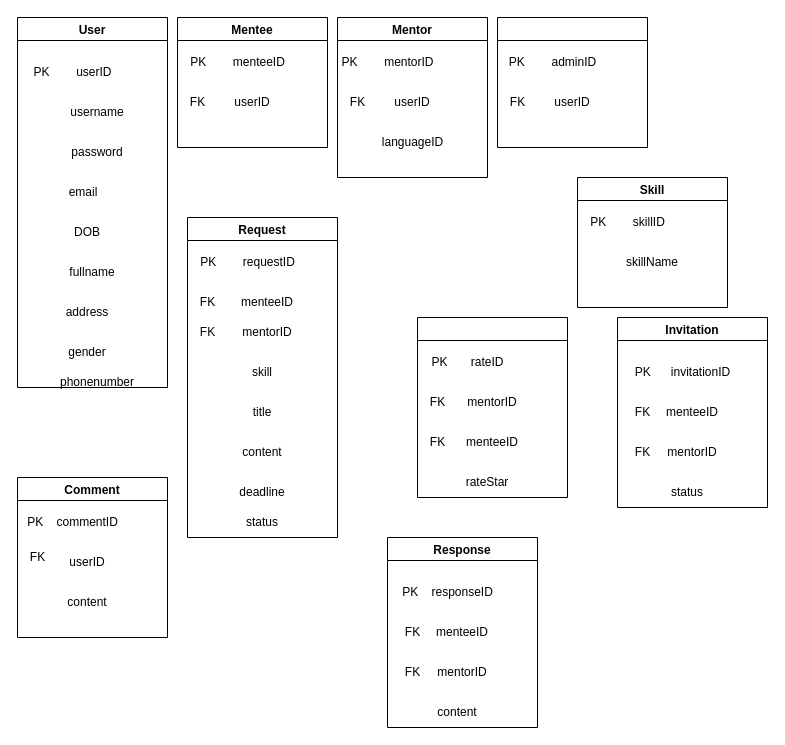
Image size: 785x745. Some labels were removed from this diagram. The box of each missing label's shape, as (x1, y1, x2, y2) in pixels:
Amin: (496, 16, 648, 148)
Rating: (416, 316, 568, 498)
